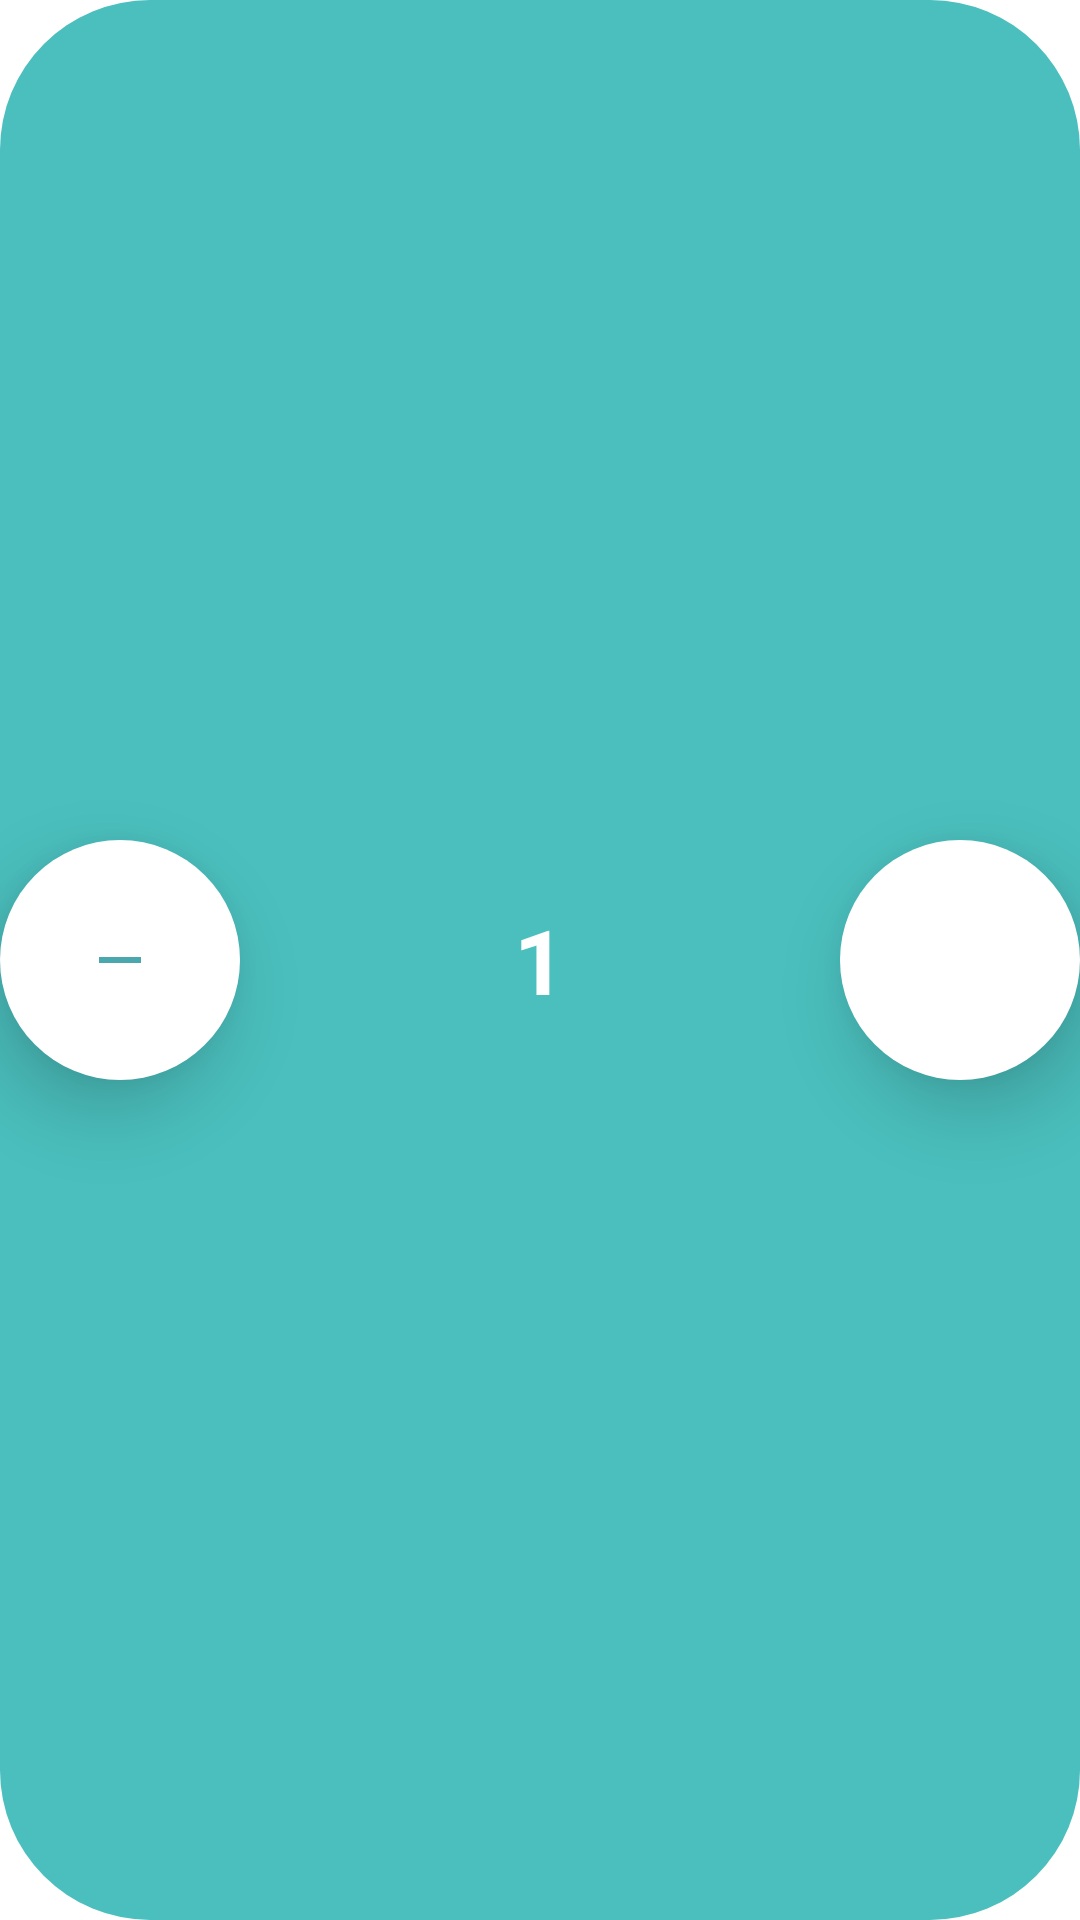

Icon bounding boxes for this 1080px x 1920px phone screenshot, format (x1, y1, x2, y2):
remove: (0, 840, 240, 1080)
